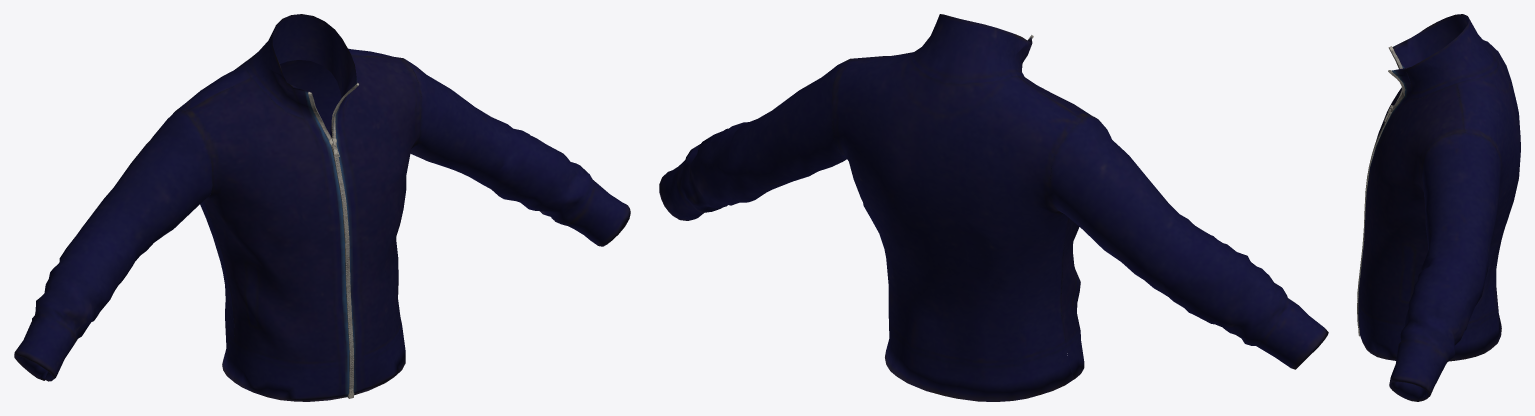
File: SM_fleece_jacket.glb
The picture shows the model from 3 angles, left to right: view 1: azimuth 30°, elevation 25°; view 2: azimuth 150°, elevation 25°; view 3: azimuth 270°, elevation 25°; orthographic projection. The views are drawn at different scales.
Parts seen in each view (by area): view 1: SM_fleece_jacket; view 2: SM_fleece_jacket; view 3: SM_fleece_jacket.
Part boxes in pixels (left/top/right/bottom): SM_fleece_jacket: left=14, top=14, right=630, bottom=401; SM_fleece_jacket: left=659, top=14, right=1328, bottom=401; SM_fleece_jacket: left=1357, top=14, right=1520, bottom=401.
Bounding box in the file's own units: 2 × 1.07 × 0.5017.
Materials: 1 (1 with a texture image).
